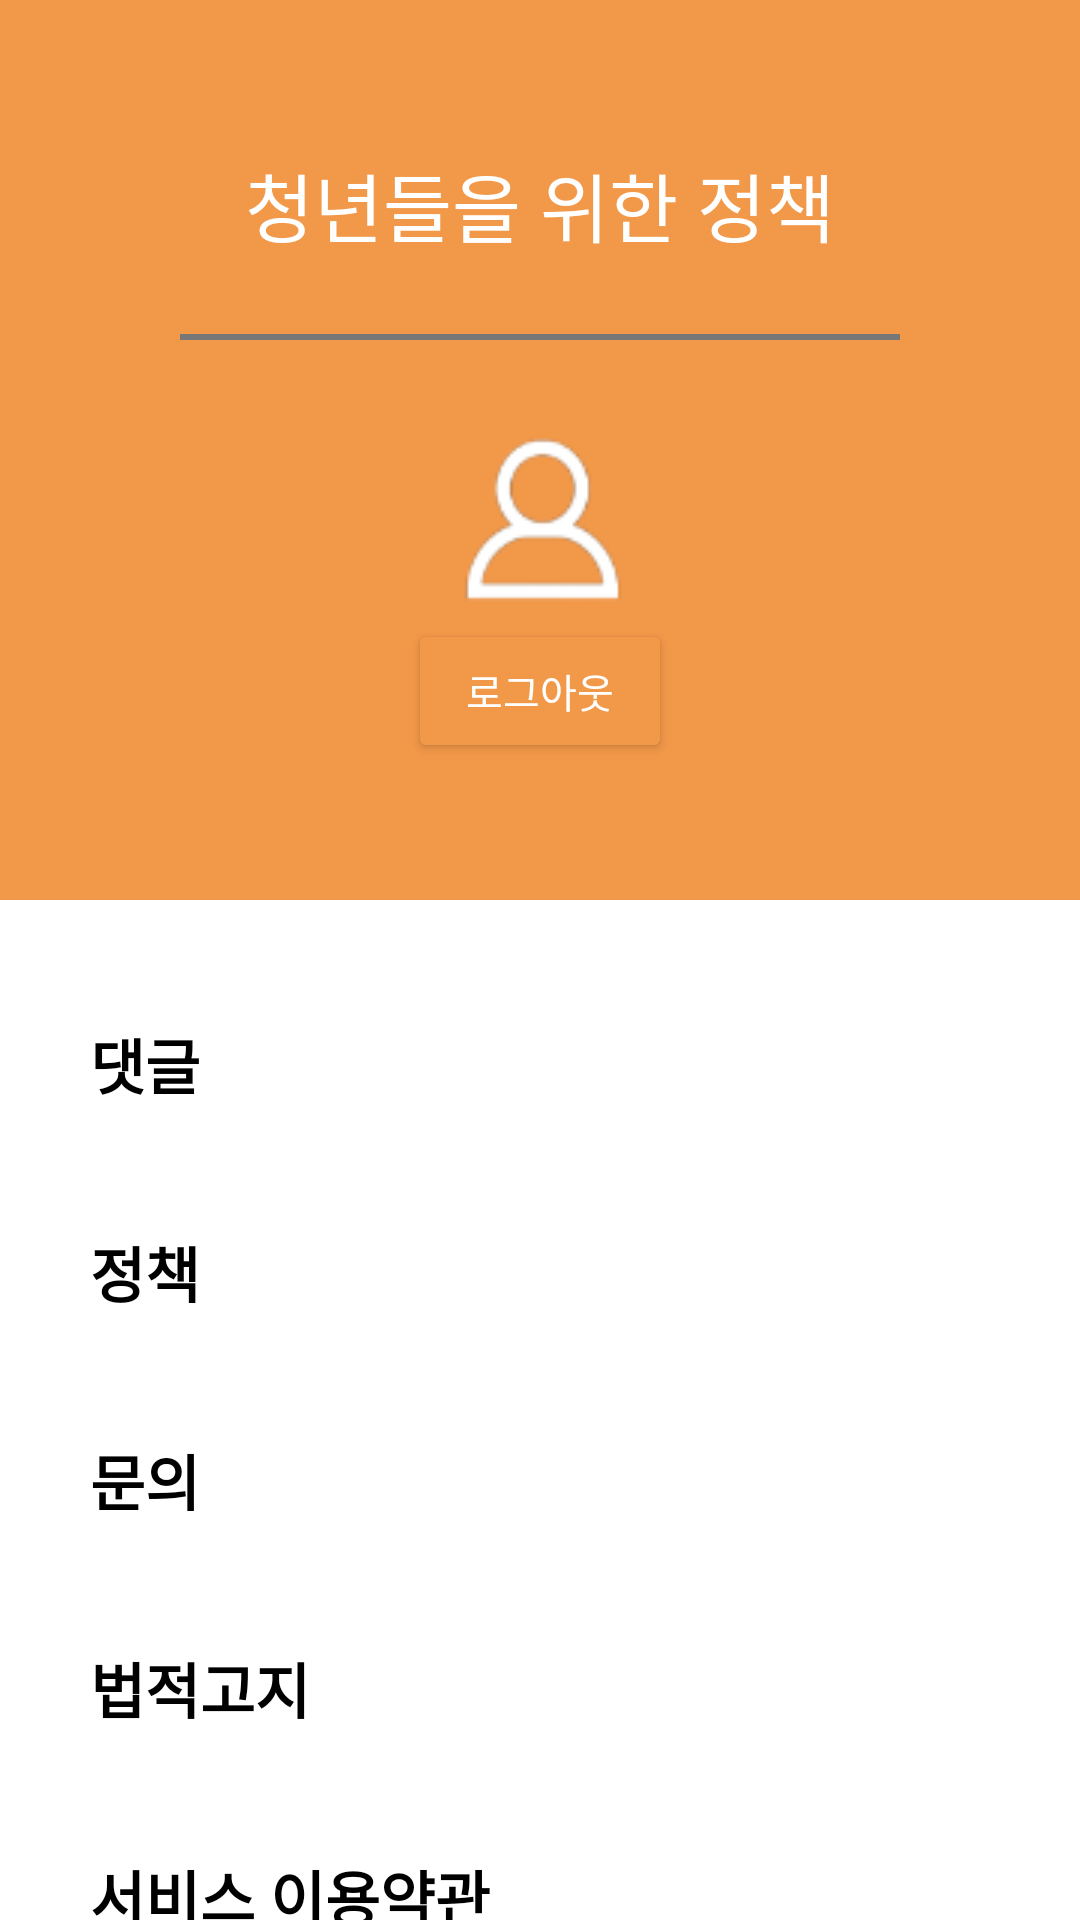

Locate icon controls on the screen. Image size 1080px x 1920px, boxes as (x1, y1, x2, y2).
login: (466, 439, 619, 599)
